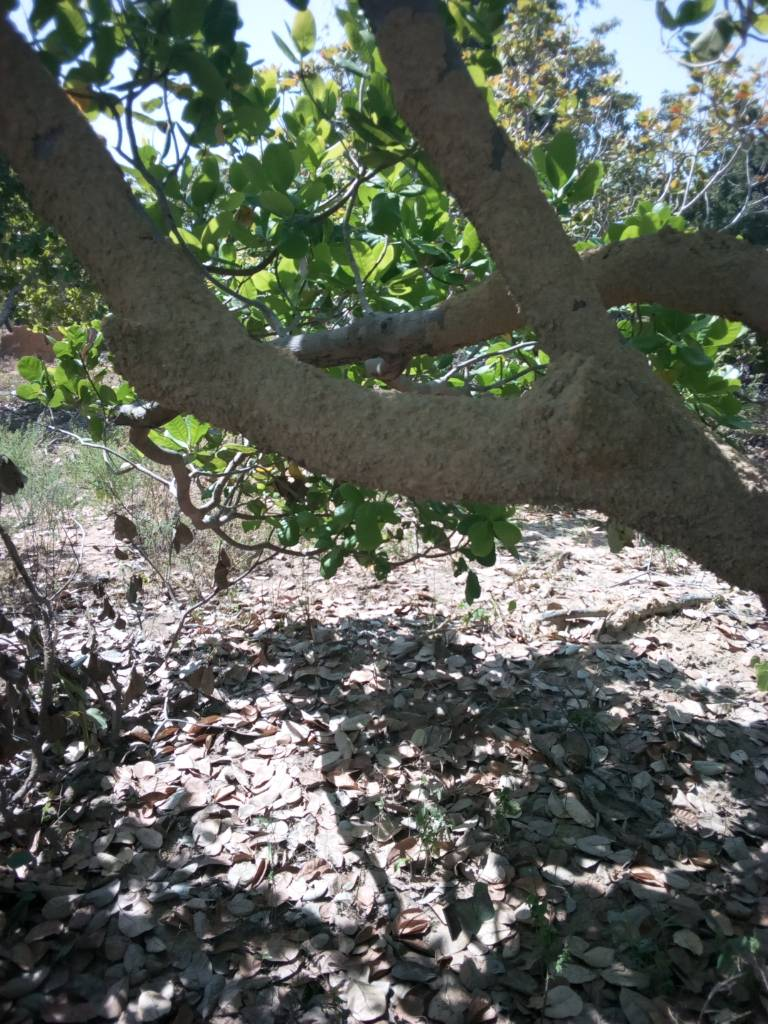Termites: (104, 307, 666, 499), (397, 53, 591, 311), (13, 66, 208, 296), (675, 436, 768, 583)
